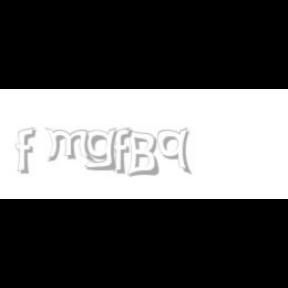B: (125, 128, 159, 178)
f: (16, 128, 40, 174), (112, 128, 136, 174)
g: (84, 128, 122, 171)
m: (44, 128, 96, 162)
q: (157, 128, 193, 176)
